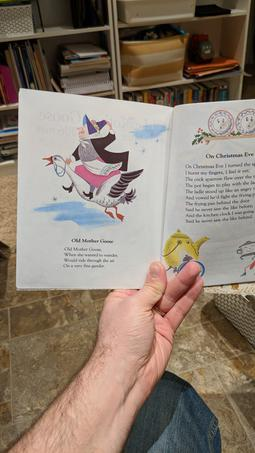text block: (178, 148, 255, 226), (53, 231, 125, 271)
